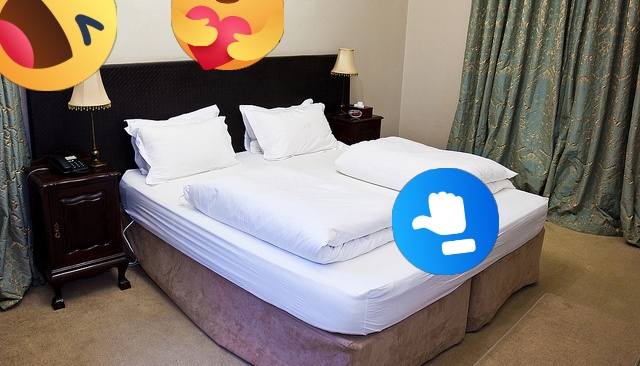care: (171, 0, 284, 70)
haha: (0, 0, 117, 91)
like: (392, 168, 499, 275)
